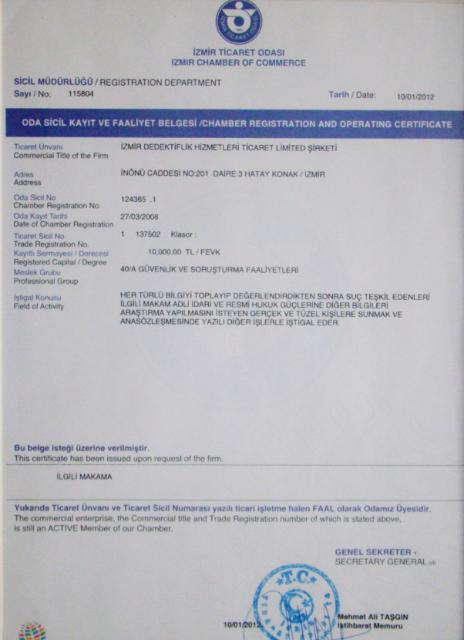stamp: (249, 564, 343, 640)
